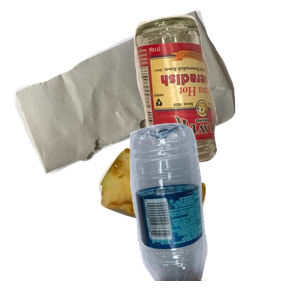glass: (131, 12, 300, 170)
paper: (12, 10, 240, 176)
plastic: (127, 120, 300, 300)
trash: (96, 145, 295, 300)
